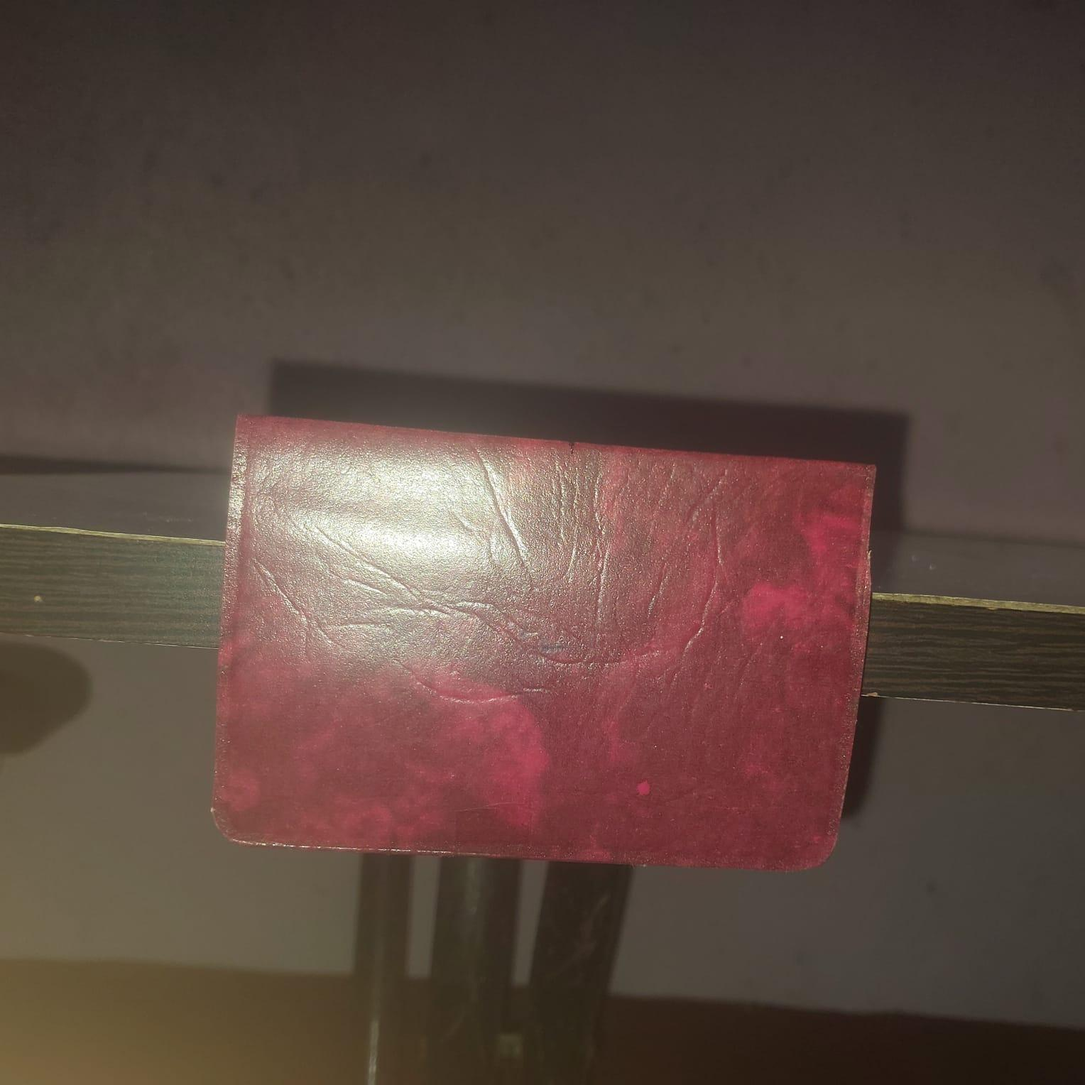wallet: (213, 410, 892, 881)
